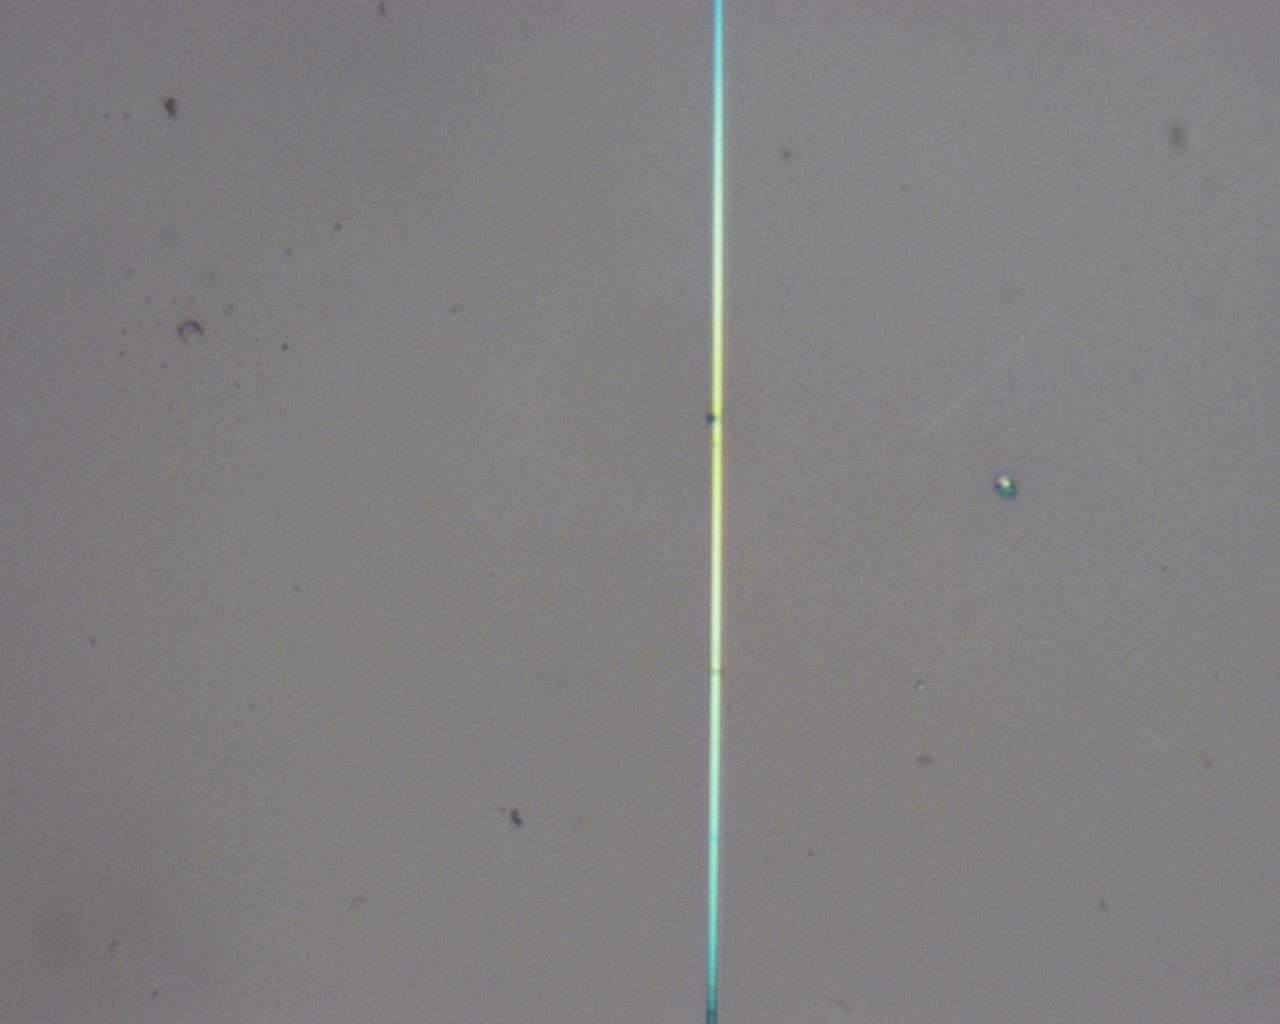fiber: (0, 692, 168, 1024), (665, 760, 1239, 842)
